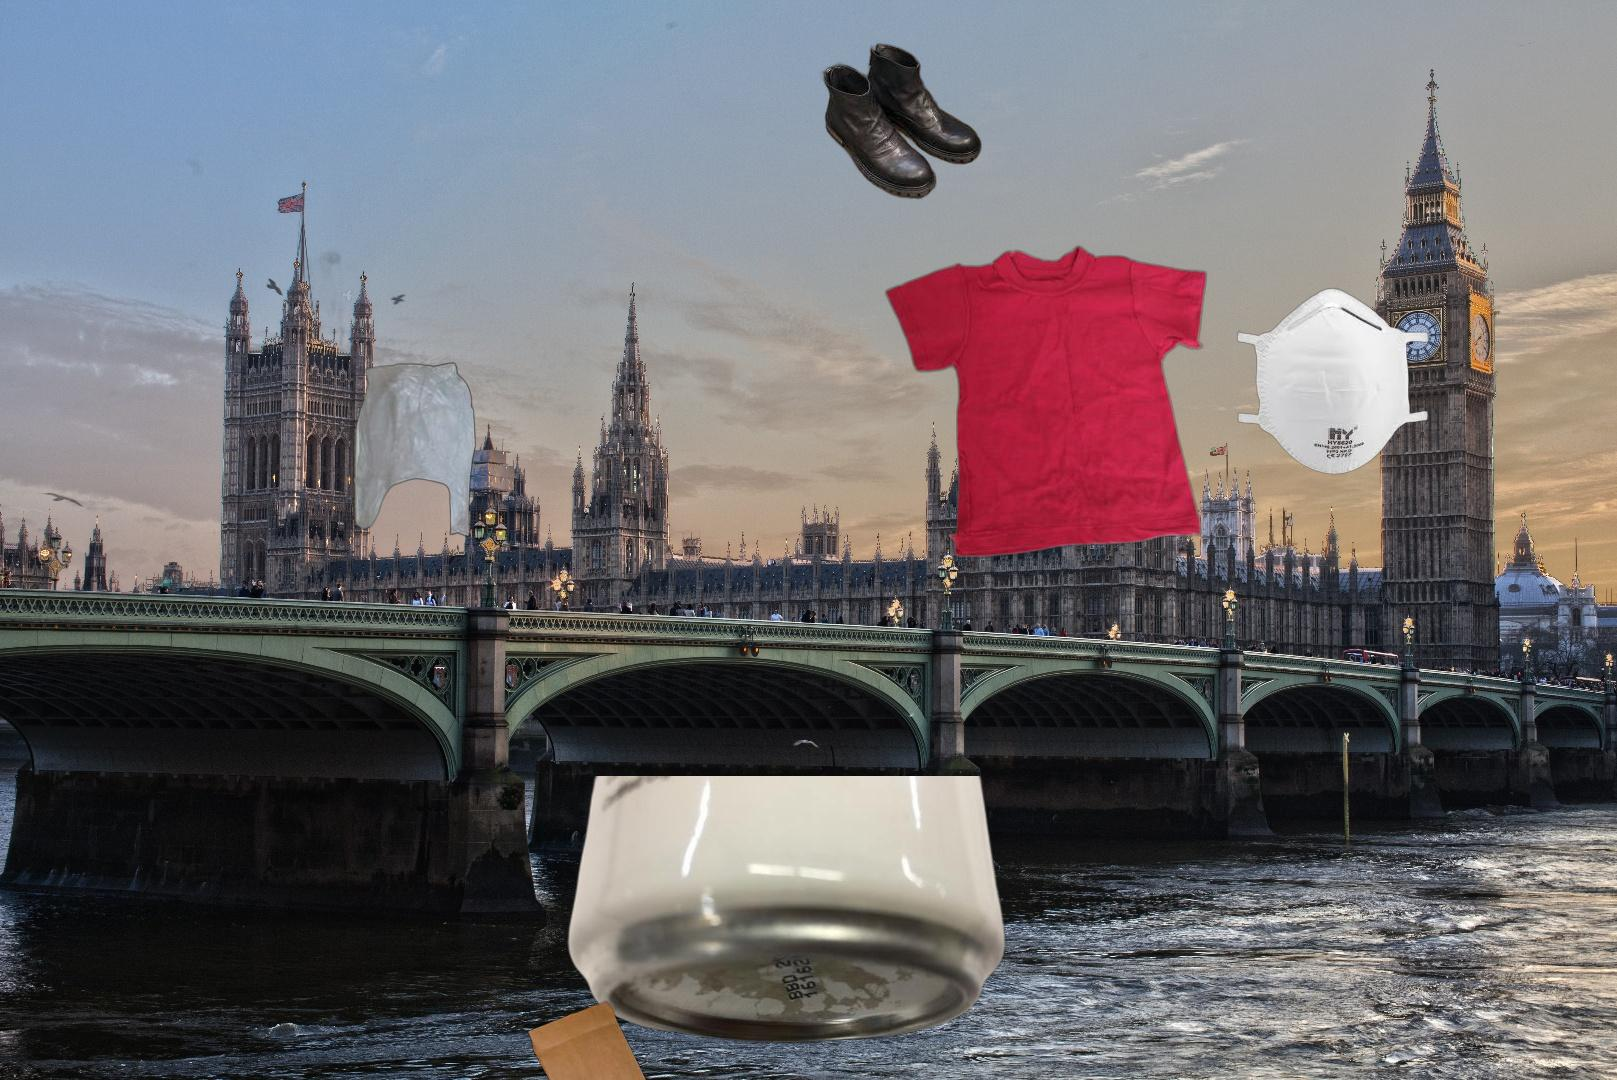clothes: (884, 242, 1209, 561)
metal-cans: (564, 776, 1011, 1046)
paper-bag: (525, 999, 657, 1080)
plastic-bag: (297, 245, 490, 545)
shoes: (817, 41, 984, 201)
trash: (1235, 286, 1431, 477)
